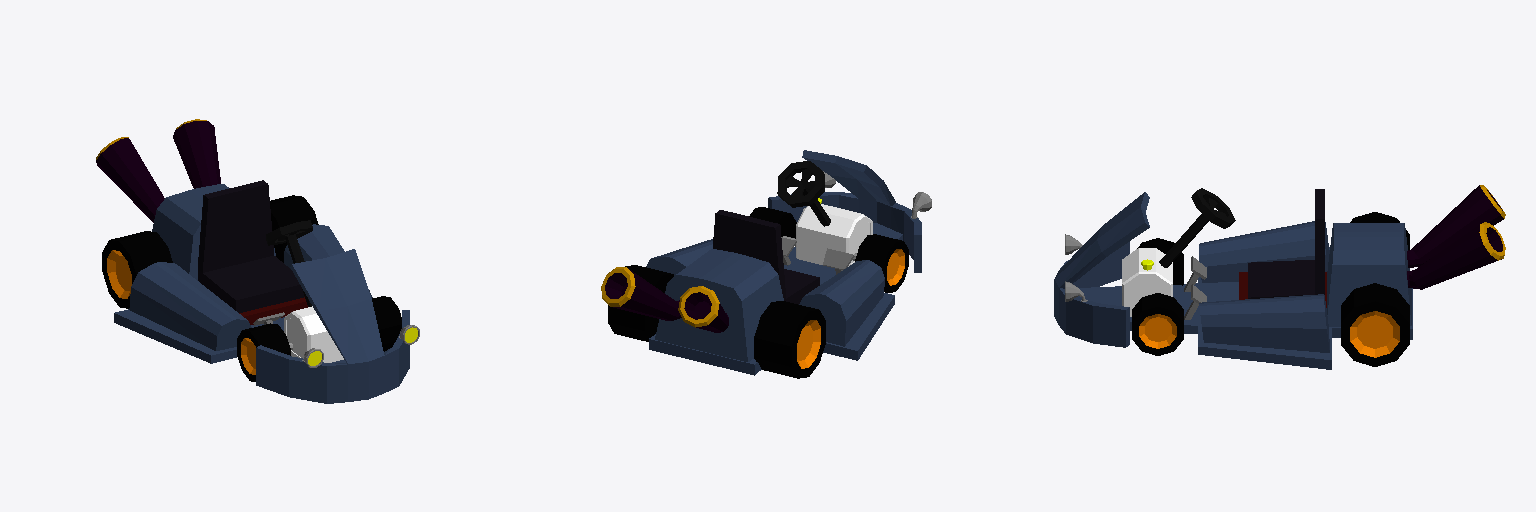
Rendered from BlueberrySodaKart.obj.
The picture shows the model from 3 angles: view 1: azimuth 30°, elevation 25°; view 2: azimuth 150°, elevation 25°; view 3: azimuth 270°, elevation 25°; orthographic projection.
Visible parts, largest first — view 1: KartPlataform1_Cylinder, Hood1_Cylinder.010, Chair1_Cube, Wheels1_Cylinder.004, Catalysts1_Cylinder.017, SteeringWheel1_Cylinder.001, Lights_Kart1_Cylinder.005; view 2: KartPlataform1_Cylinder, Wheels1_Cylinder.004, Hood1_Cylinder.010, Catalysts1_Cylinder.017, Chair1_Cube, SteeringWheel1_Cylinder.001, Pedals1_Cylinder.007; view 3: KartPlataform1_Cylinder, Wheels1_Cylinder.004, Hood1_Cylinder.010, Catalysts1_Cylinder.017, Chair1_Cube, SteeringWheel1_Cylinder.001, Pedals1_Cylinder.007.
Boxes of the visible parts, <box> form: KartPlataform1_Cylinder: <box>114,184,372,363</box>; Hood1_Cylinder.010: <box>256,249,409,403</box>; Chair1_Cube: <box>198,180,307,324</box>; Wheels1_Cylinder.004: <box>102,195,401,381</box>; Catalysts1_Cylinder.017: <box>96,119,220,222</box>; SteeringWheel1_Cylinder.001: <box>266,220,312,306</box>; Lights_Kart1_Cylinder.005: <box>302,325,419,367</box>; KartPlataform1_Cylinder: <box>646,198,902,375</box>; Wheels1_Cylinder.004: <box>608,207,908,378</box>; Hood1_Cylinder.010: <box>768,150,921,272</box>; Catalysts1_Cylinder.017: <box>601,267,728,332</box>; Chair1_Cube: <box>713,210,819,304</box>; SteeringWheel1_Cylinder.001: <box>777,161,830,226</box>; Pedals1_Cylinder.007: <box>781,237,854,274</box>; KartPlataform1_Cylinder: <box>1078,221,1412,369</box>; Wheels1_Cylinder.004: <box>1132,212,1409,366</box>; Hood1_Cylinder.010: <box>1054,192,1149,347</box>; Catalysts1_Cylinder.017: <box>1407,185,1505,289</box>; Chair1_Cube: <box>1239,189,1326,307</box>; SteeringWheel1_Cylinder.001: <box>1159,188,1235,267</box>; Pedals1_Cylinder.007: <box>1184,256,1206,319</box>.
Bounding box in the file's own units: 10.53 × 5.62 × 17.74.